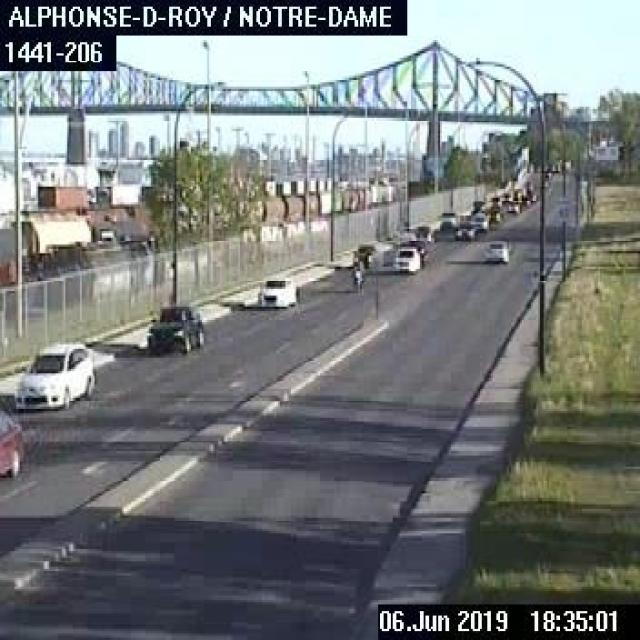vehicle: (9, 336, 98, 414), (144, 298, 206, 353), (0, 406, 27, 482), (254, 269, 302, 309), (389, 244, 420, 273), (481, 238, 508, 263), (350, 242, 378, 266), (406, 237, 429, 263), (407, 222, 434, 244), (436, 208, 458, 231), (454, 218, 475, 240), (471, 210, 489, 230), (468, 195, 487, 213), (485, 207, 504, 224), (350, 261, 362, 285), (506, 199, 520, 214)
